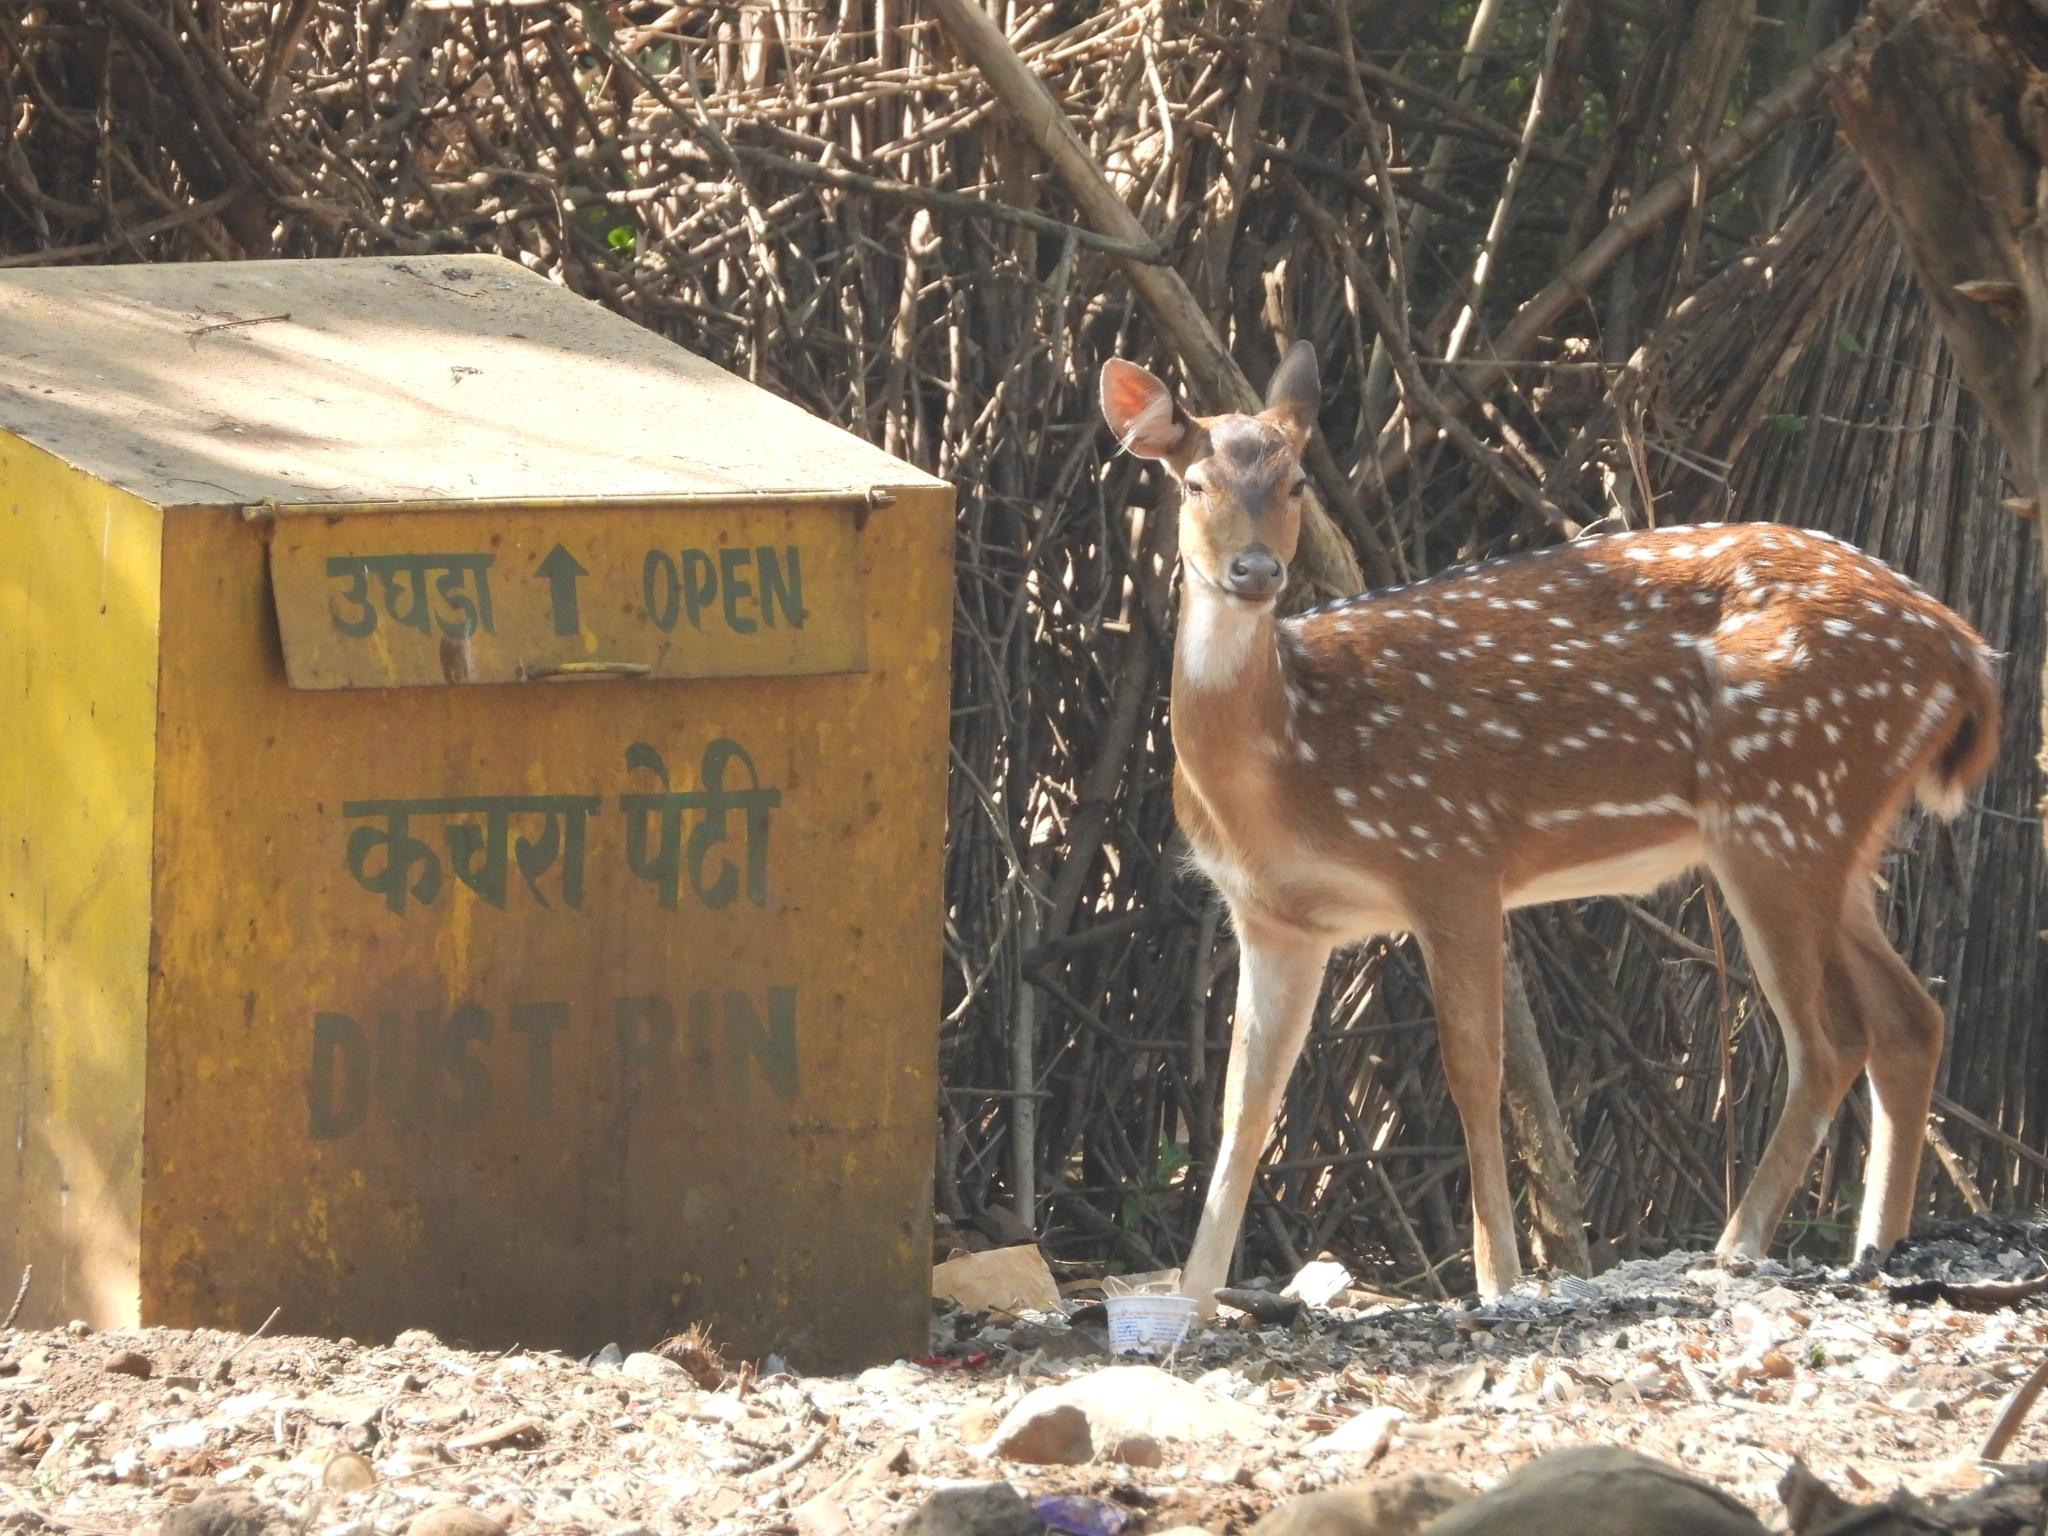Deer: (1100, 342, 2000, 1297)
